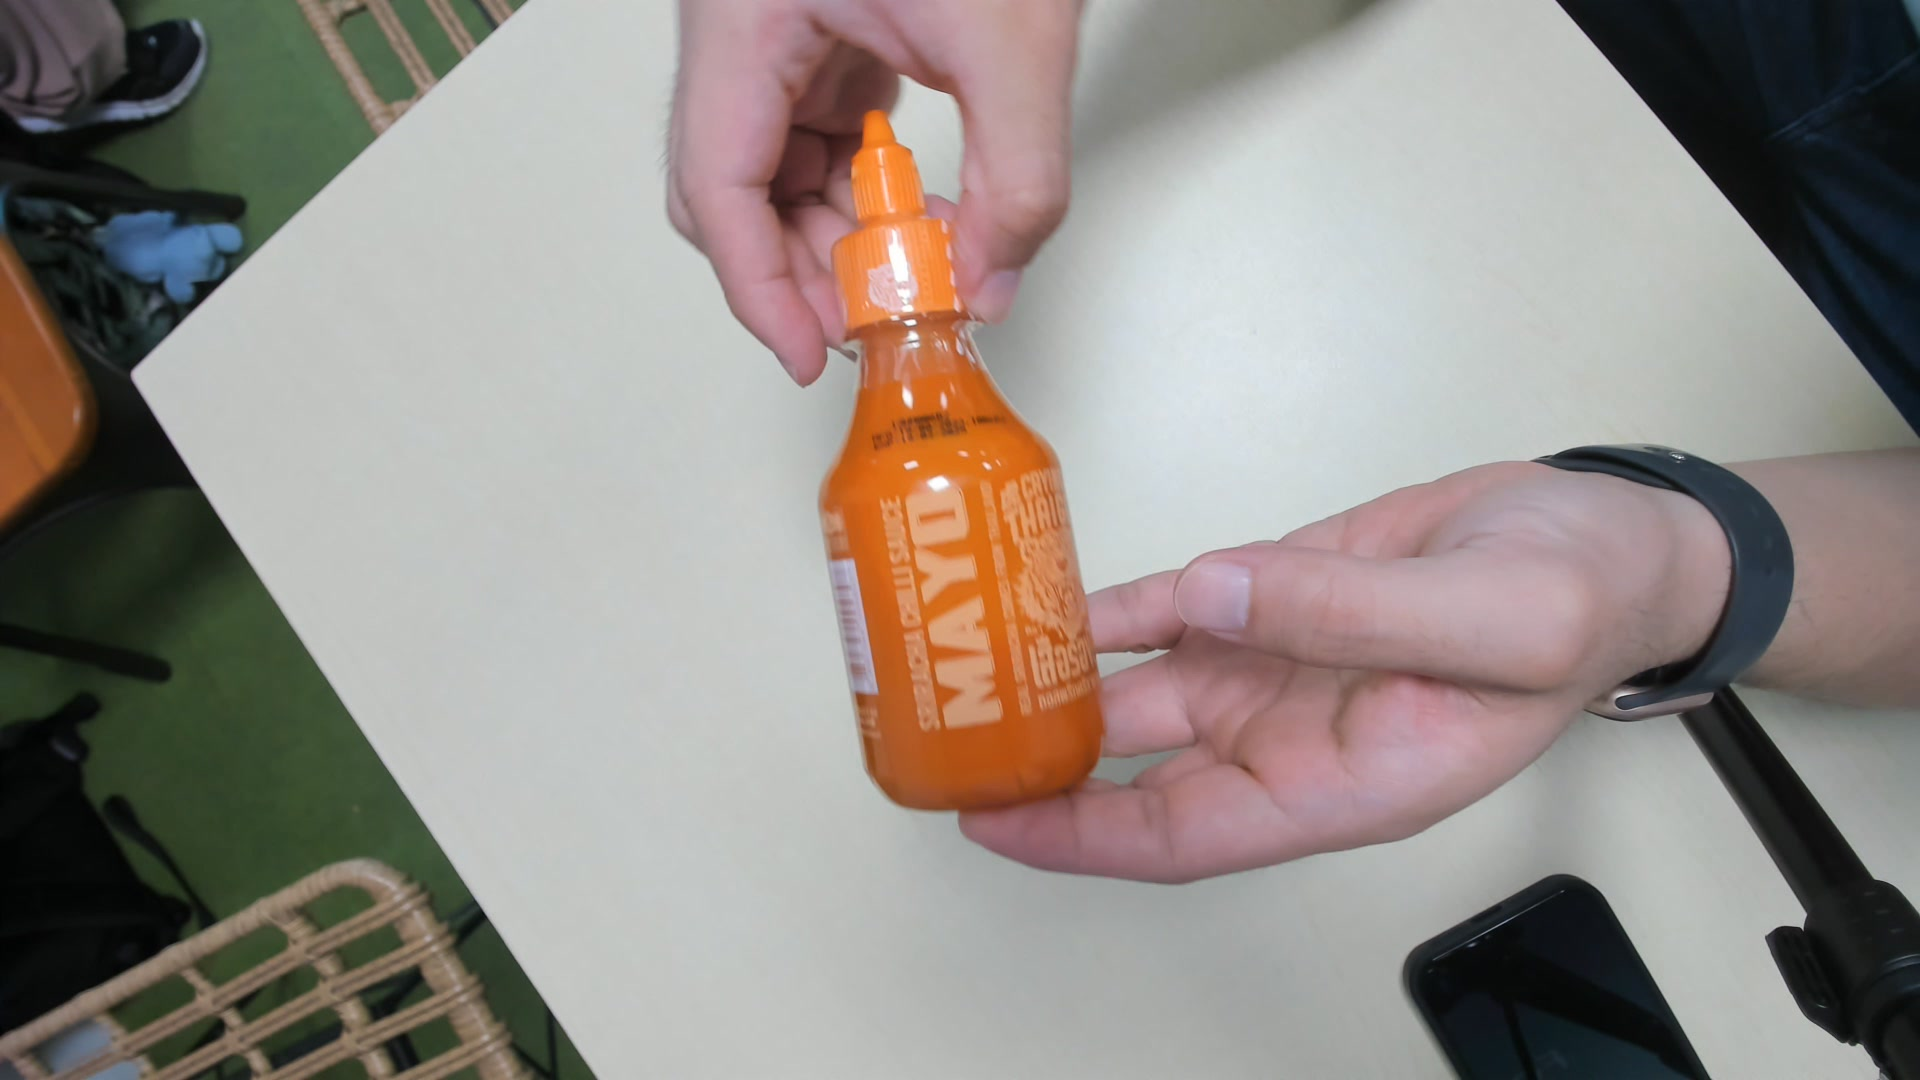OtherSauceDressing_200-299g_NonHalal_NonHealthy: (818, 99, 1105, 802)
